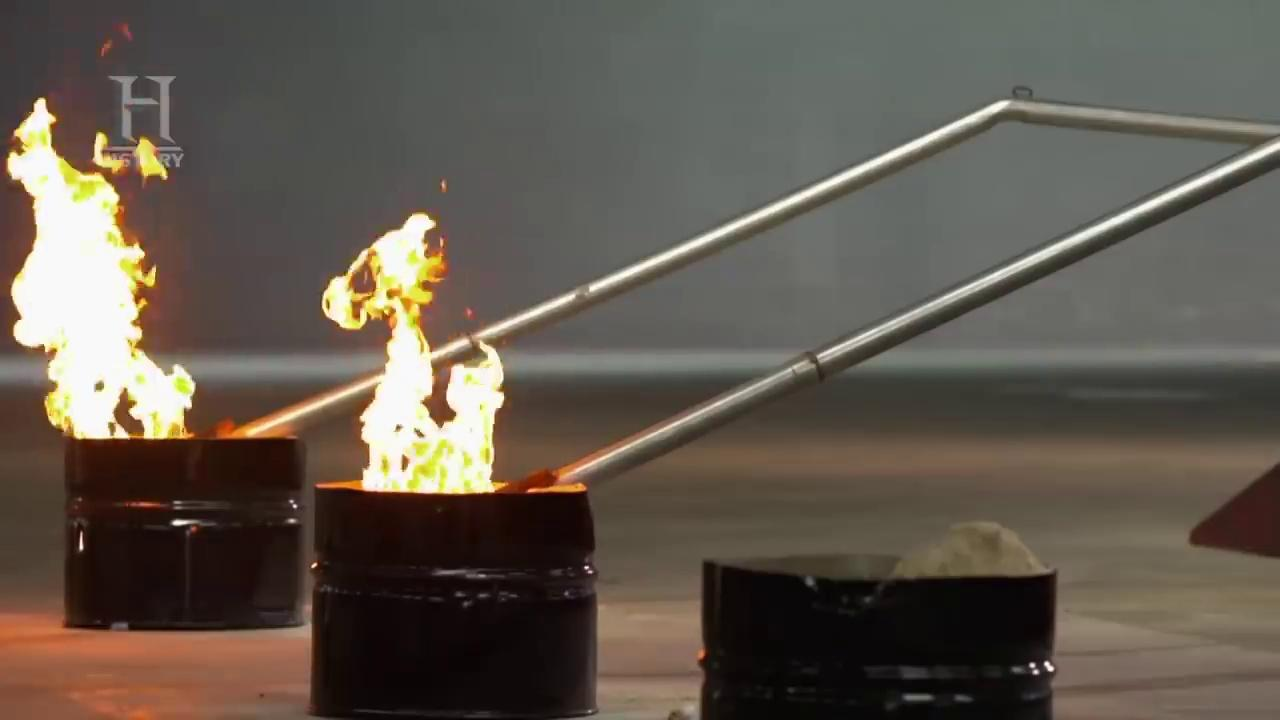Fire: (16, 95, 249, 476), (329, 199, 544, 493)
